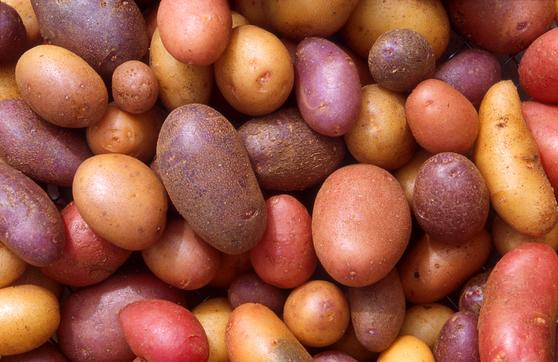potato: (150, 102, 275, 248), (311, 163, 414, 290), (72, 154, 168, 247), (14, 44, 106, 131), (217, 25, 299, 110), (414, 157, 493, 242)
